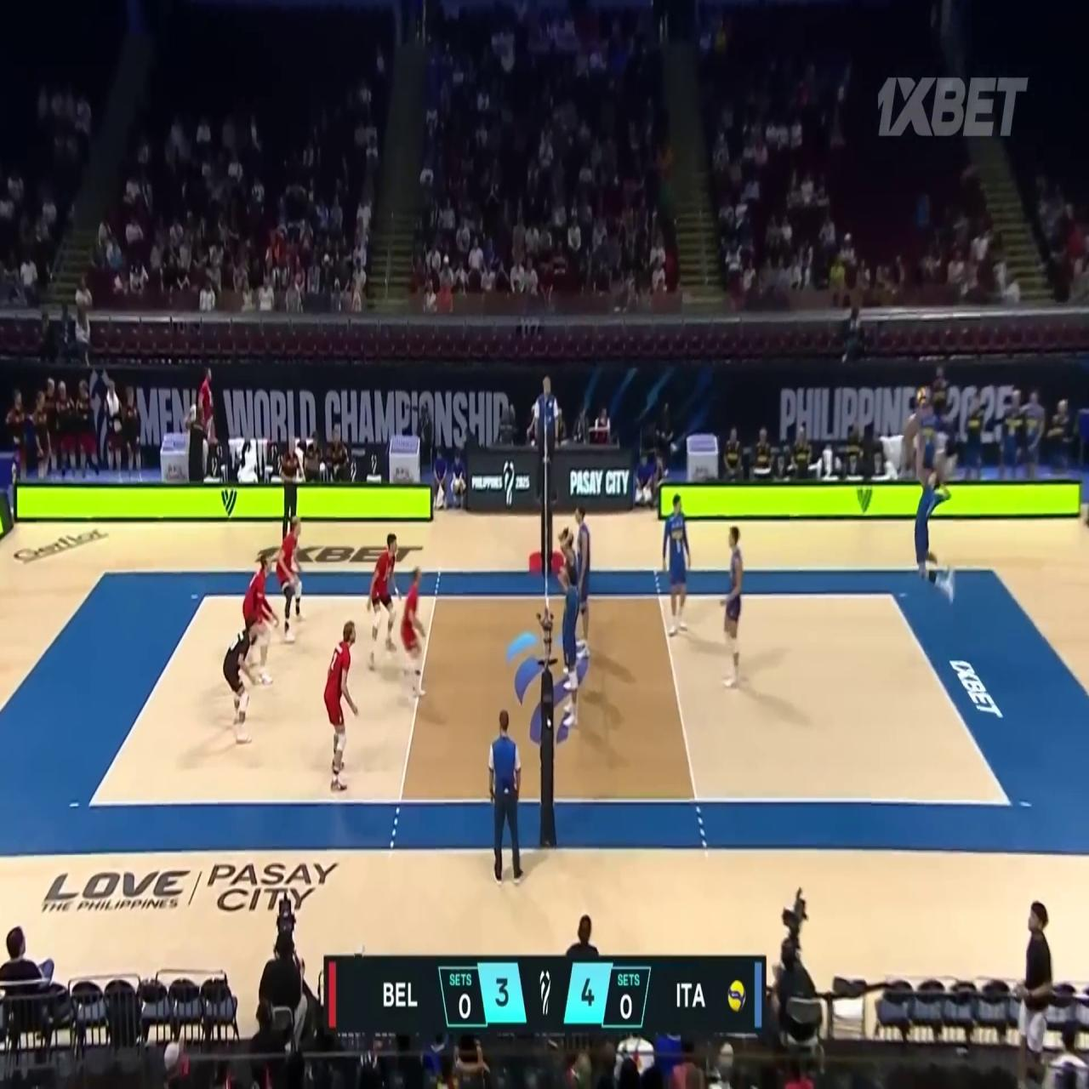ball: (917, 387, 928, 406)
